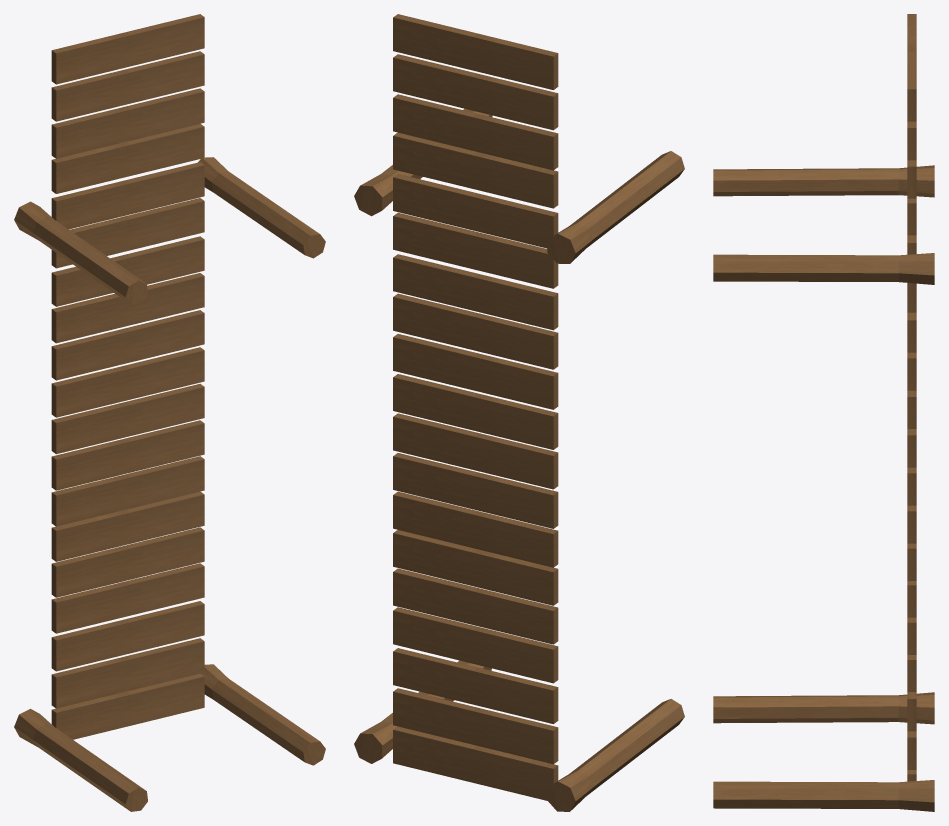
Rendered from all_share_bridge.FBX.
3 views of the same model, side by side, from view 1: azimuth 30°, elevation 25°; view 2: azimuth 150°, elevation 25°; view 3: azimuth 270°, elevation 25° (orthographic). The views are drawn at different scales.
Parts seen in each view (by area): view 1: Cube.015; view 2: Cube.015; view 3: Cube.015.
Part boxes in pixels (box(x1,y1,x2,y2)): Cube.015: box(14, 14, 325, 811); Cube.015: box(354, 14, 684, 811); Cube.015: box(713, 14, 934, 811).
Size of the model in its own units: 224 by 719 by 201.
